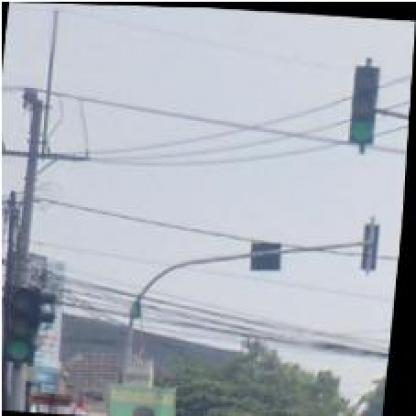green: (6, 283, 42, 366), (347, 64, 382, 145)
